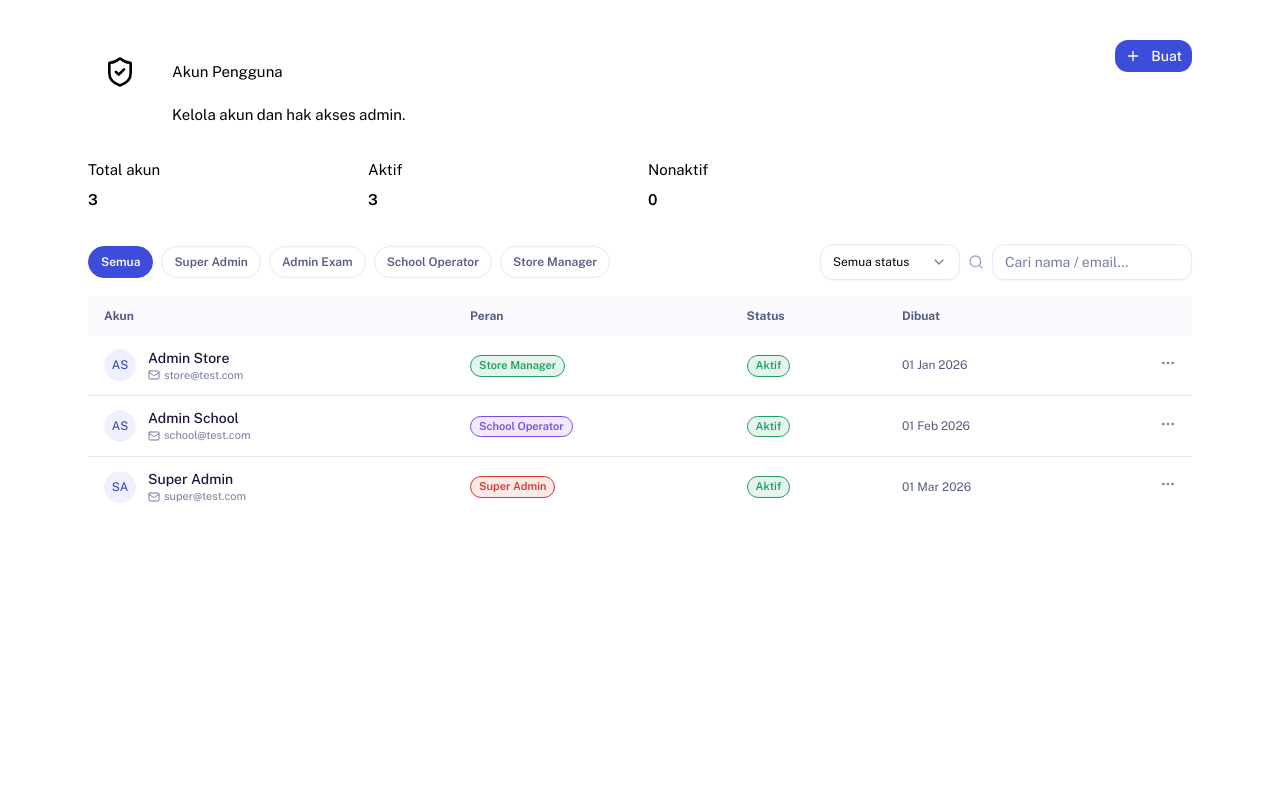
SystemAccountsPage › shows and pre-fills the school picker in the role-change dialog for an existing admin_school account
Expected: the text "Admin School" is shown, [148,408,250,428]
Expected: the row that starts with "Admin School" is shown, [88,396,1192,456]
Press the mouse on the button without text in the row of "Admin School" at (1168, 424), box [1160,416,1176,432]
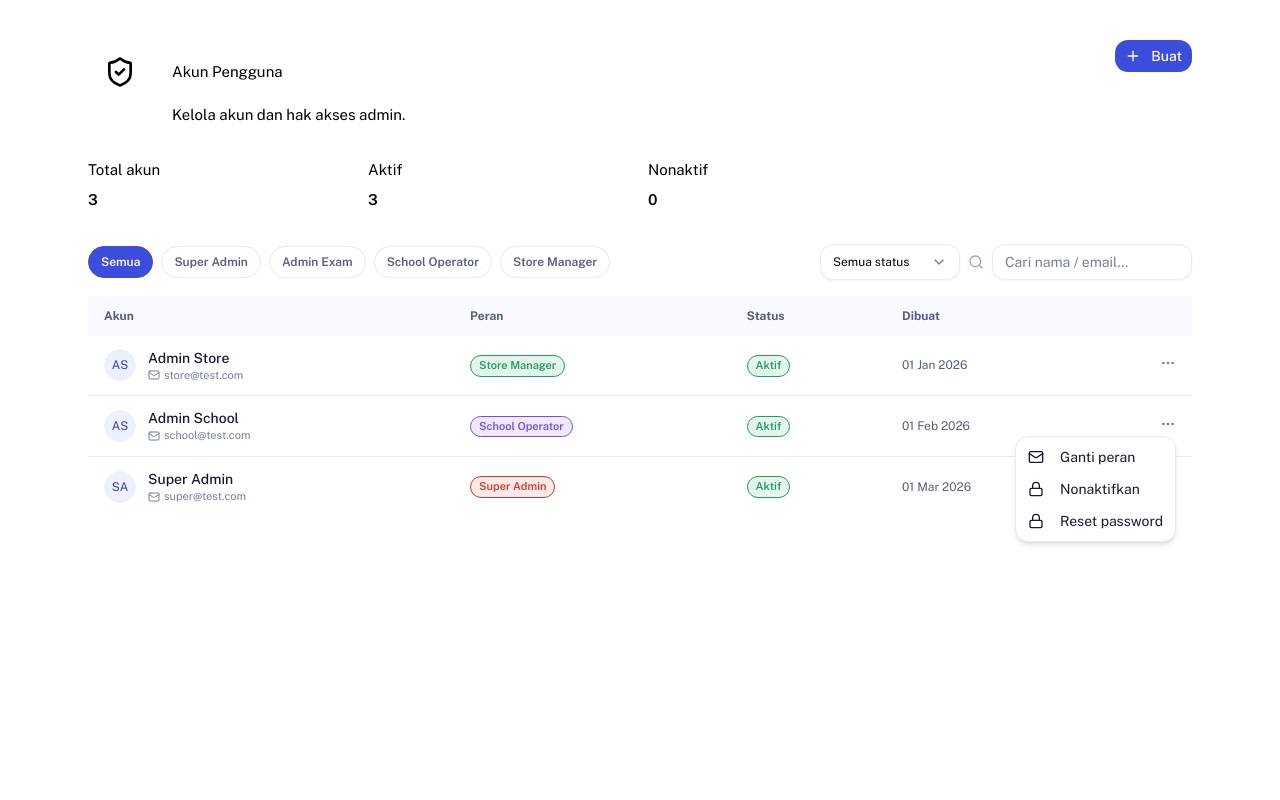
Click the menu item "Ganti peran". click: (1082, 457)
box: [1028,449,1135,465]
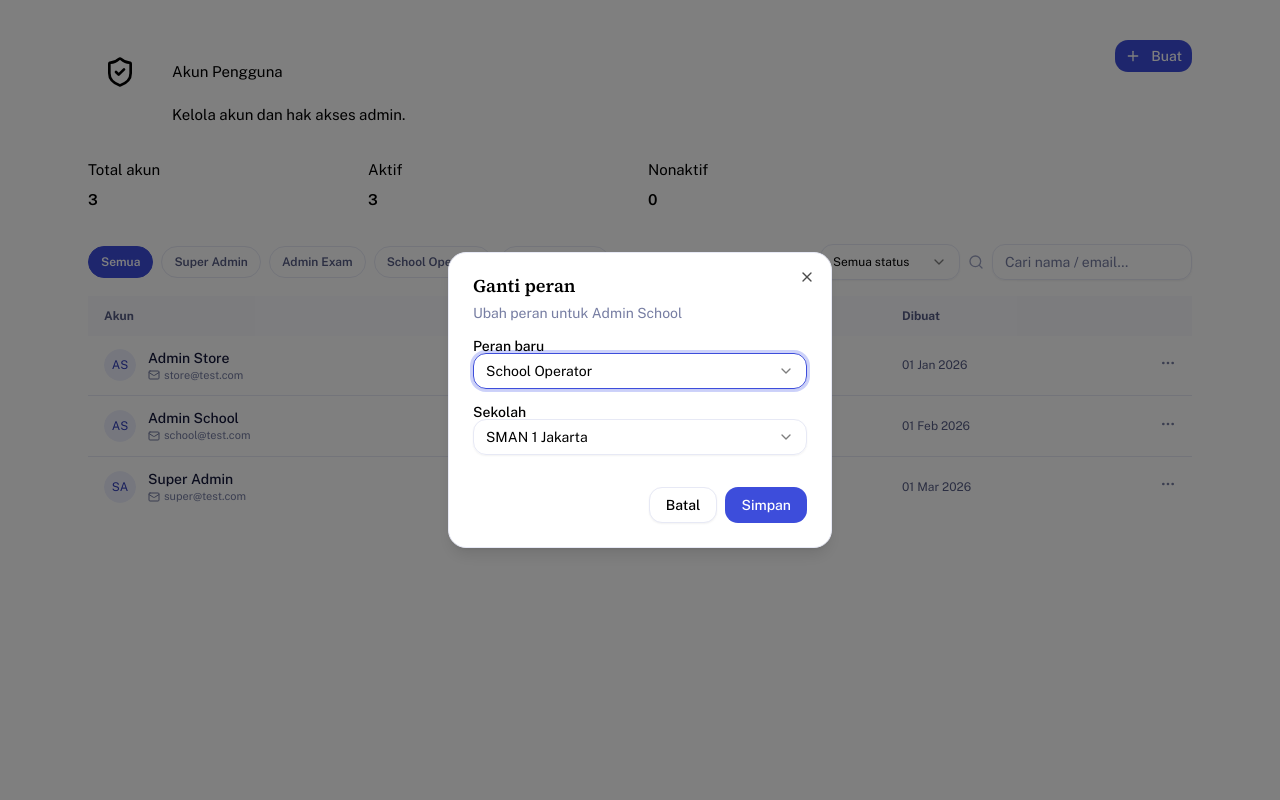
Expected: the text "Sekolah" is shown, [473,404,526,420]
Expected: the text "SMAN 1 Jakarta" is shown, [486,427,588,447]
